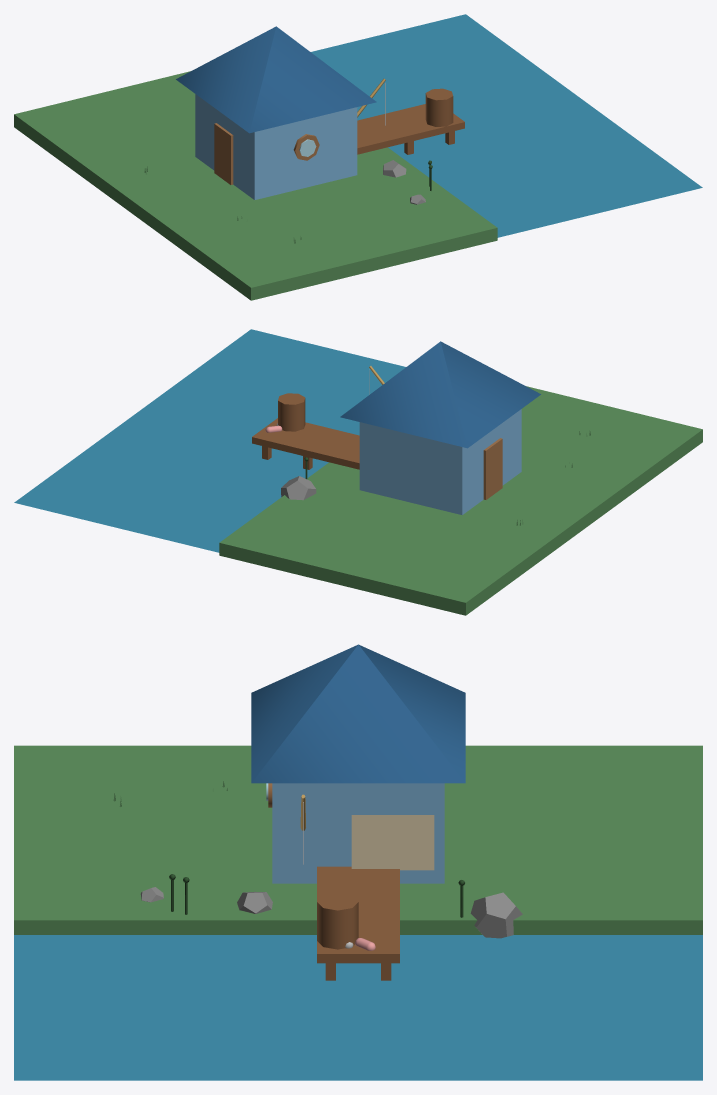
Rendered from fisherman_hut.glb.
The picture shows the model from 3 angles, top to bottom: view 1: azimuth 30°, elevation 25°; view 2: azimuth 150°, elevation 25°; view 3: azimuth 270°, elevation 25°; orthographic projection. The views are drawn at different scales.
Parts seen in each view (by area): view 1: Shoreline, WaterSurface, PyramidRoof, HutWalls, PierPlanks, Door, Barrel; view 2: Shoreline, WaterSurface, PyramidRoof, HutWalls, PierPlanks, Door, Barrel, Rock; view 3: Shoreline, WaterSurface, PyramidRoof, HutWalls, PierPlanks, FishingNet, Barrel, Rock.
Part boxes in pixels (x1,y1,x2,y2): Shoreline: (14,71,497,300); WaterSurface: (311,14,702,237); PyramidRoof: (176,26,376,133); HutWalls: (195,94,357,199); PierPlanks: (357,104,464,154); Door: (214,123,233,184); Barrel: (425,88,453,126); Shoreline: (219,386,702,615); WaterSurface: (14,329,405,552); PyramidRoof: (340,341,540,448); HutWalls: (359,409,521,514); PierPlanks: (252,418,359,469); Door: (483,438,502,499); Barrel: (278,393,305,431); Rock: (281,476,316,500); Shoreline: (14,745,702,934); WaterSurface: (14,935,702,1080); PyramidRoof: (251,644,465,783); HutWalls: (272,783,444,883); PierPlanks: (317,866,399,963); FishingNet: (351,815,434,870); Barrel: (317,893,358,949); Rock: (470,892,522,938).
Size of the model in its own units: 11 by 3.68 by 10.
